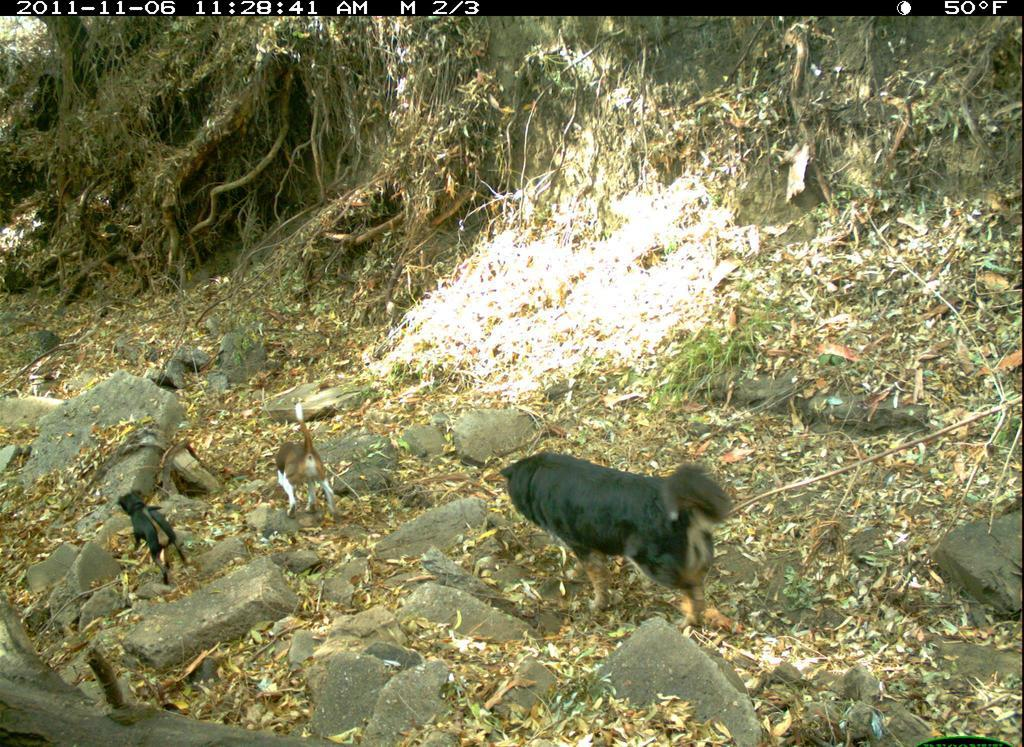dog: (491, 440, 731, 642), (269, 397, 347, 523), (111, 487, 200, 588)
